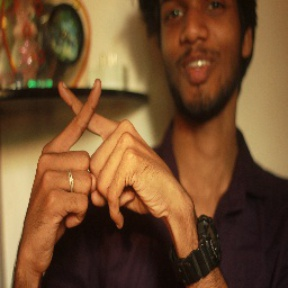X: (33, 72, 141, 178)
